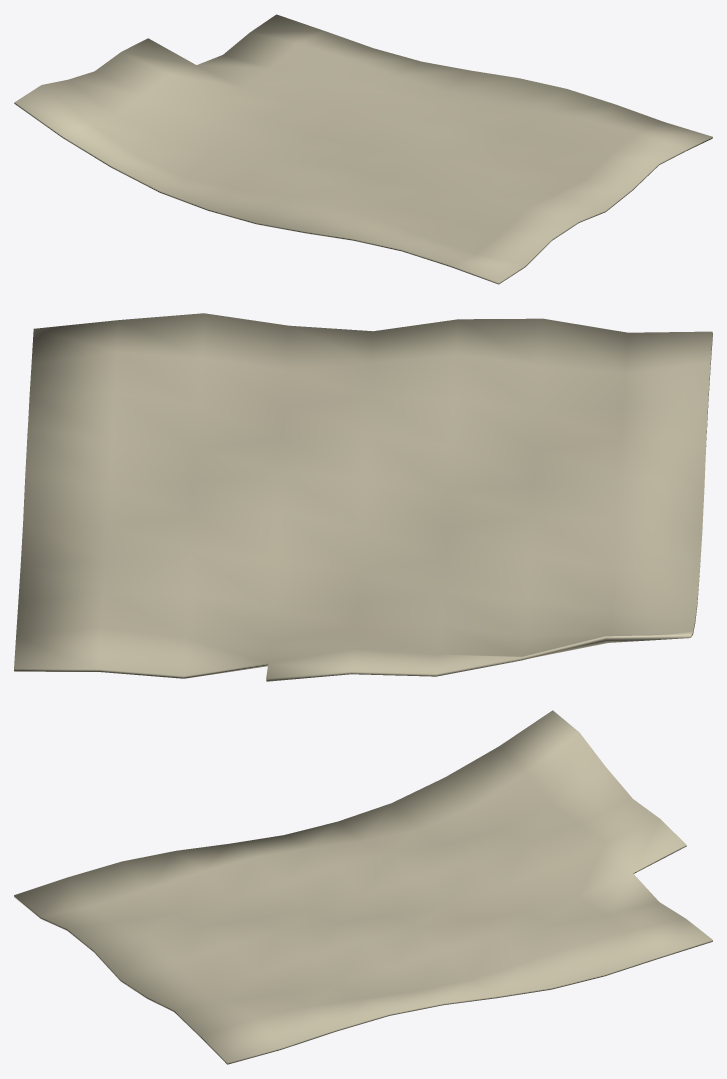
The model's file is torn_map.glb.
3 views of the same model, one above another, from view 1: azimuth 30°, elevation 25°; view 2: azimuth 150°, elevation 25°; view 3: azimuth 270°, elevation 25° (orthographic). The views are drawn at different scales.
Parts seen in each view (by area): view 1: map121; view 2: map121; view 3: map121.
Boxes of the visible parts, box(x1,y1,x2,y2) form: map121: box(14, 14, 712, 284); map121: box(14, 313, 712, 681); map121: box(14, 710, 712, 1064).
Bounding box in the file's own units: 0.647 × 0.0678 × 0.6595.
